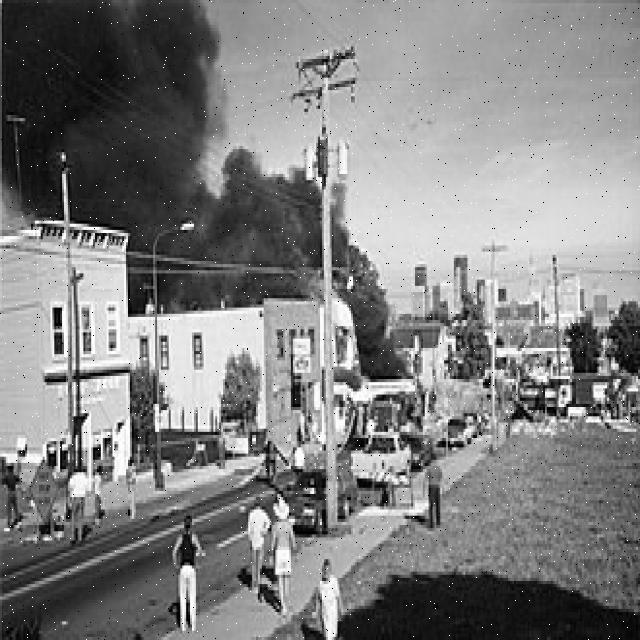explosion: (34, 41, 390, 445)
